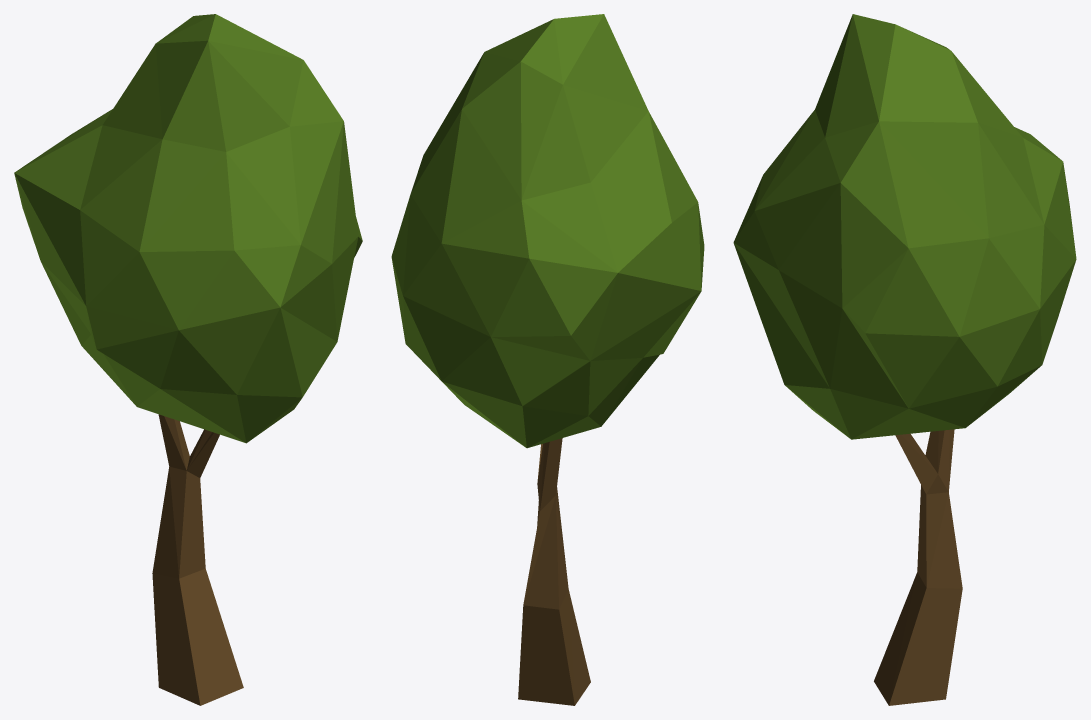
The model's file is tree3.glb.
The picture shows the model from 3 angles, left to right: view 1: azimuth 30°, elevation 25°; view 2: azimuth 150°, elevation 25°; view 3: azimuth 270°, elevation 25°; orthographic projection.
Visible parts, largest first — view 1: Tree1_4; view 2: Tree1_4; view 3: Tree1_4.
Part boxes in pixels (box(x1,y1,x2,y2)): Tree1_4: box(14, 14, 362, 705); Tree1_4: box(391, 14, 704, 705); Tree1_4: box(733, 14, 1076, 705).
Bounding box in the file's own units: 1.46 × 3.47 × 1.61.
